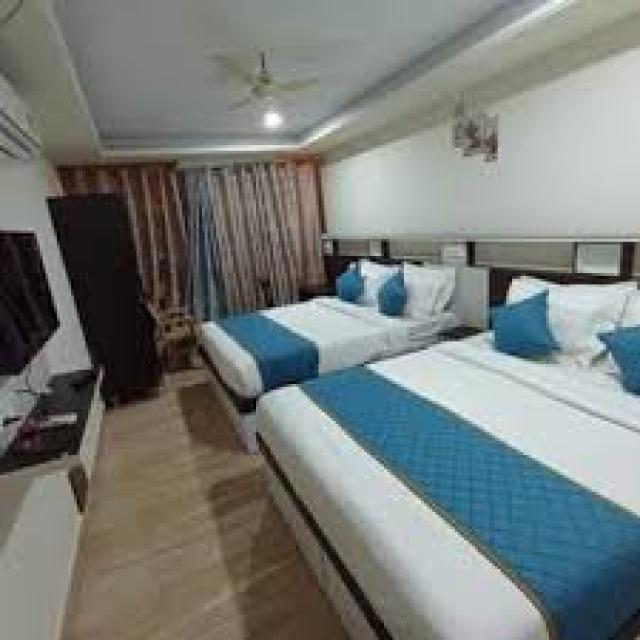bed: (245, 253, 640, 640), (198, 224, 472, 459)
